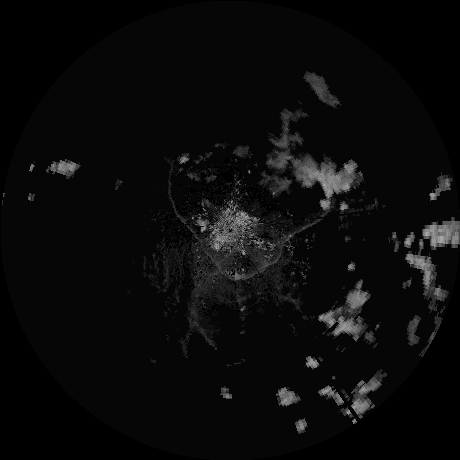frontgust: (229, 212, 326, 281), (167, 181, 228, 275)
